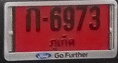txt01: (25, 7, 41, 33)
